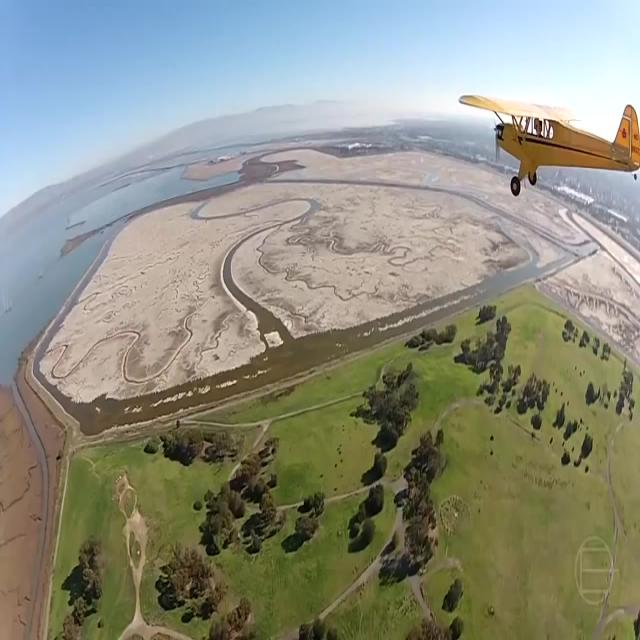iha: (458, 124, 640, 165)
